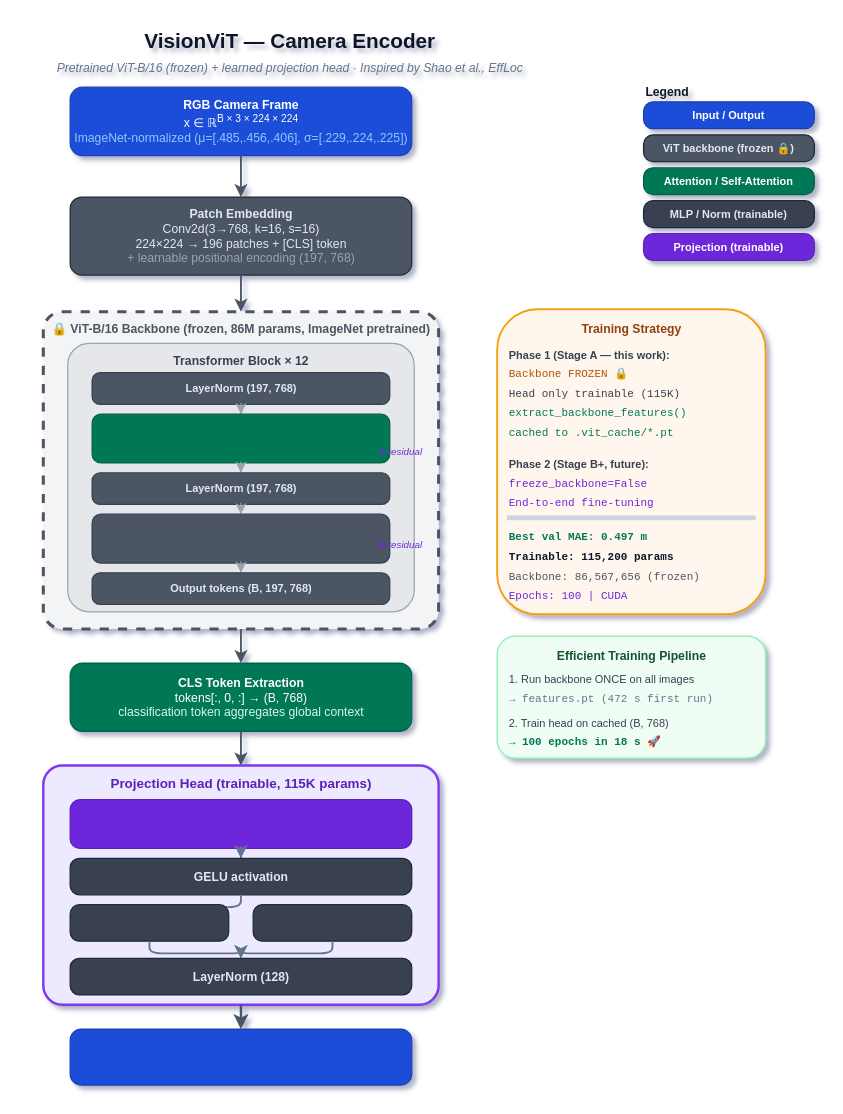
Image size: 843x1114. Some labels were removed from this diagram. Here are the shapes that lost their labels. From the top down, the centre of each, then its label:
At (x=240, y=438): "Multi-Head Self-Attention 12 heads · d_head=64 · d_model=768".
At (x=240, y=538): "MLP (FFN) Linear(768→3072) → GELU → Linear(3072→768)".
At (x=240, y=823): "Linear 768 → 128 (768×128 + 128 = 98,432 params)".
At (x=149, y=922): "Dropout (p=0.1)".
At (x=332, y=922): "Linear 128 → 128 (16,512)".
At (x=240, y=1056): "Embedding z z ∈ ℝ B × 128".
